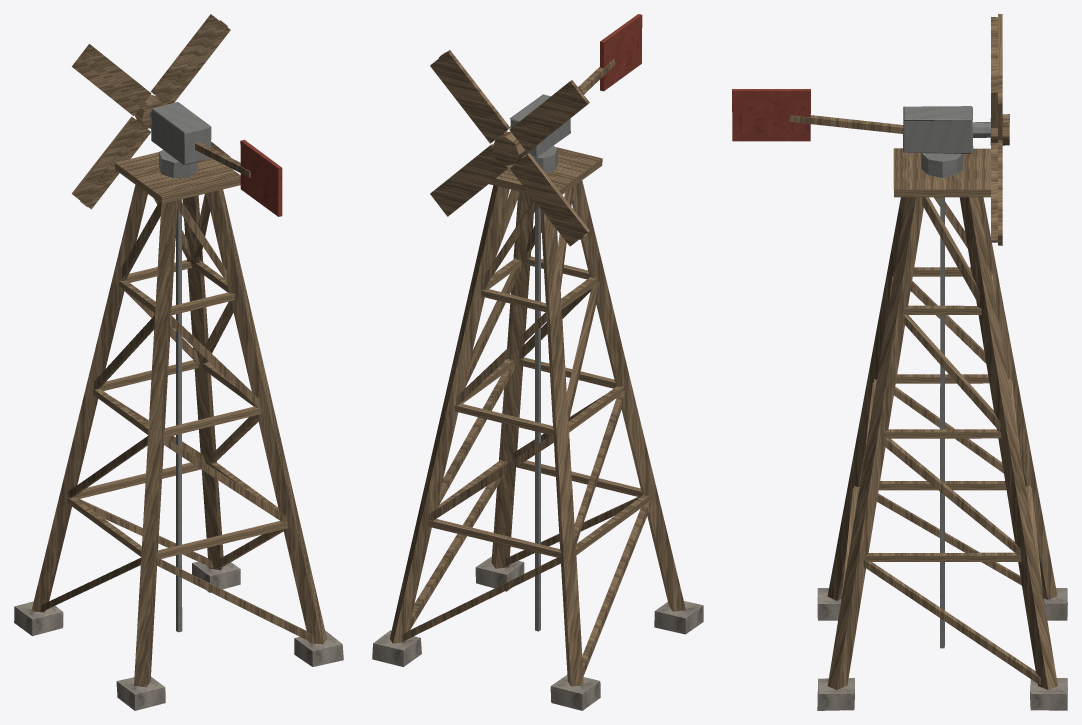
File: windmill.glb
The picture shows the model from 3 angles, left to right: view 1: azimuth 30°, elevation 25°; view 2: azimuth 150°, elevation 25°; view 3: azimuth 270°, elevation 25°; orthographic projection. The views are drawn at different scales.
Parts seen in each view (by area): view 1: Windmill, Rotor; view 2: Windmill, Rotor; view 3: Windmill, Rotor.
Boxes of the visible parts, bbox=[...] form: Windmill: bbox=[14, 102, 343, 710]; Rotor: bbox=[71, 14, 230, 209]; Windmill: bbox=[372, 14, 703, 710]; Rotor: bbox=[430, 50, 589, 246]; Windmill: bbox=[732, 89, 1067, 710]; Rotor: bbox=[990, 14, 1009, 245].
Bounding box in the file's own units: 3.03 × 8.2 × 4.07.
Materials: 4 (4 with a texture image).
